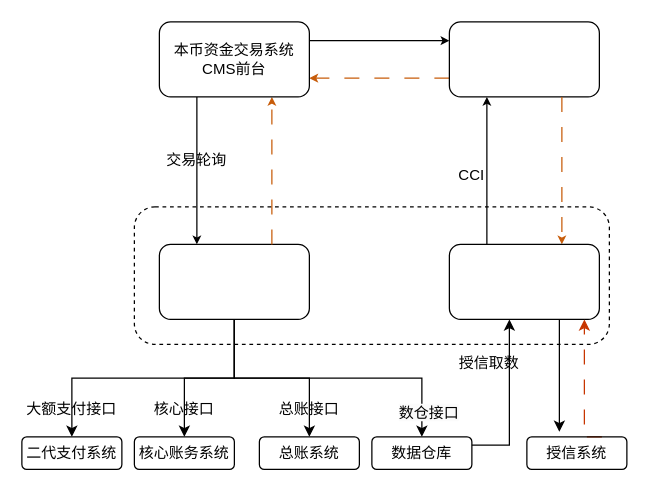
The diagram is 649 pixels wide and 491 high, and some of its shapes have lost their labels. Here are the shapes that lost their labels. From the top down, the box of each, then its label:
(448, 21, 599, 97): RMS
(158, 243, 309, 319): 本币资金管理TBS后台
(448, 243, 599, 319): 授信接口
